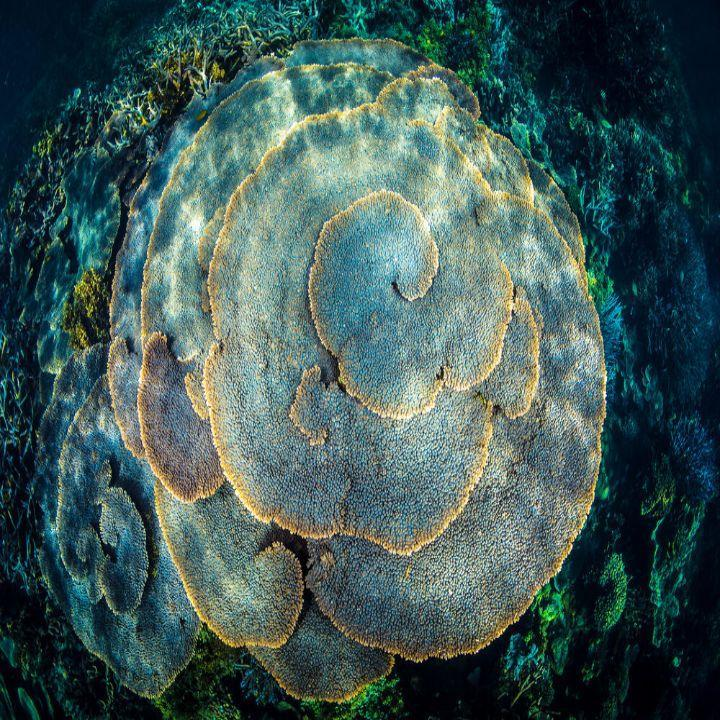Healthy Coral: (44, 34, 631, 712)
